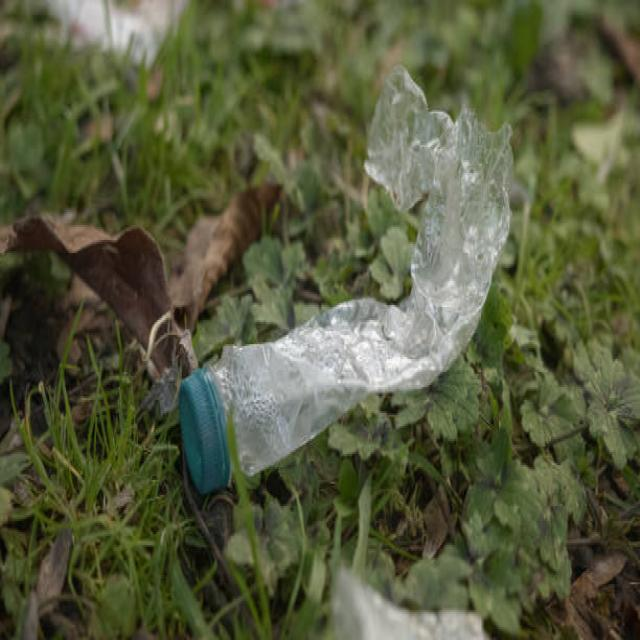plastic: (185, 304, 461, 475)
